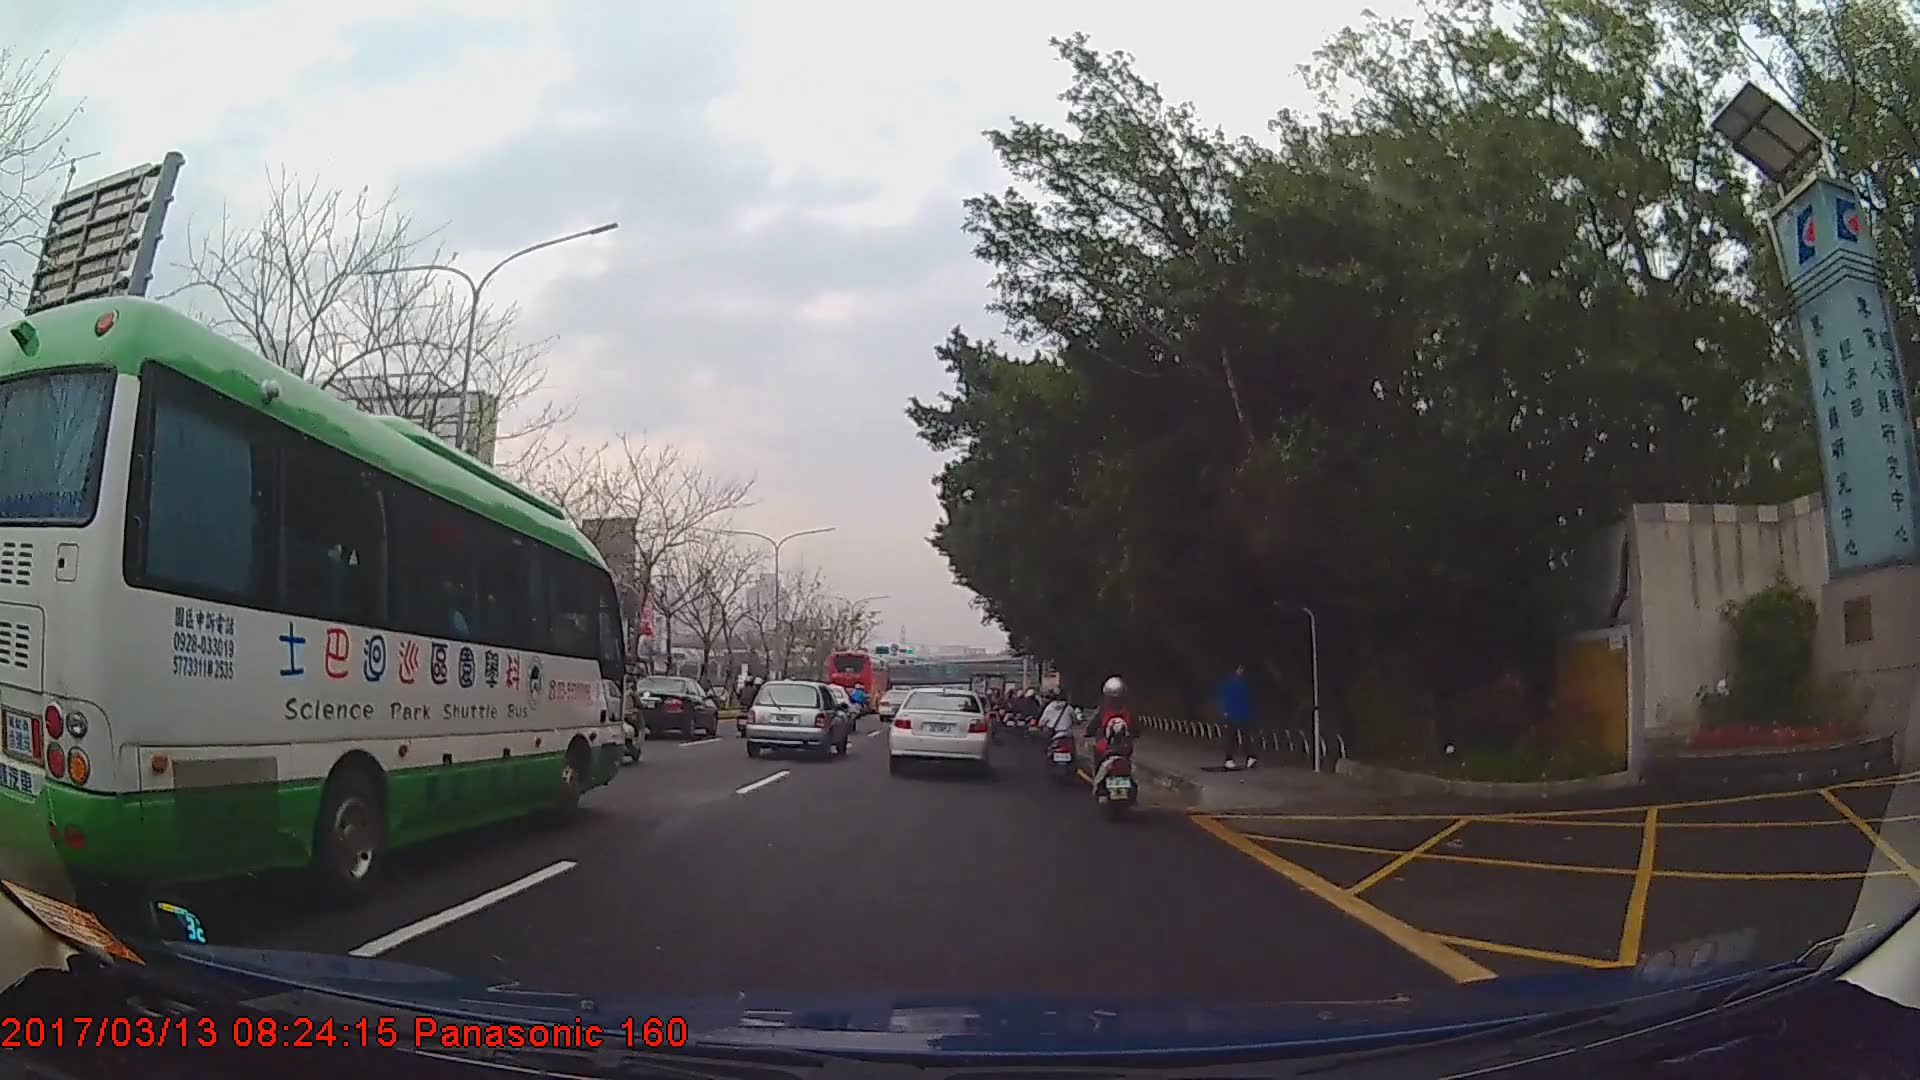pedestrian: (1221, 664, 1260, 768)
rider: (1084, 675, 1141, 815), (603, 664, 642, 768), (1039, 689, 1081, 780), (738, 675, 764, 726)
vehicle: (0, 289, 628, 905), (886, 681, 991, 771), (744, 680, 848, 759), (623, 671, 718, 740), (827, 648, 894, 711)
